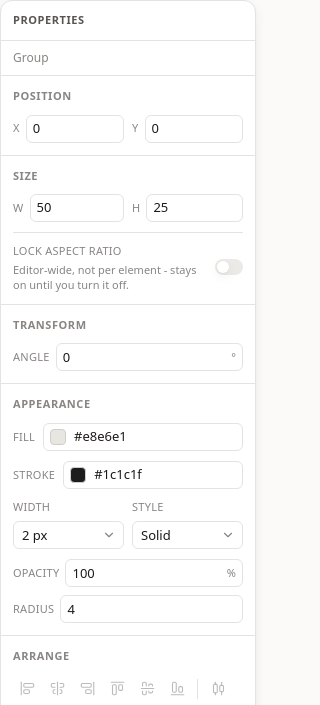
Test case: group selection › couples W to H for a group once the aspect lock is on
The image size is (320, 705).
Click the switch named "Lock aspect ratio" at point(229, 267), box [215,259,243,275]
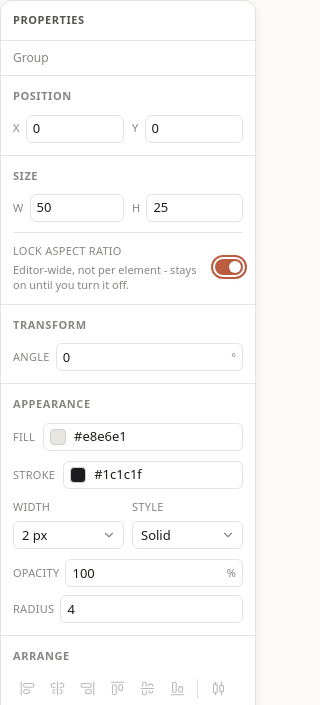
Replace the text in the number field labelled "W" with "100" at point(77, 208), box [30,198,123,218]
Then press Enter
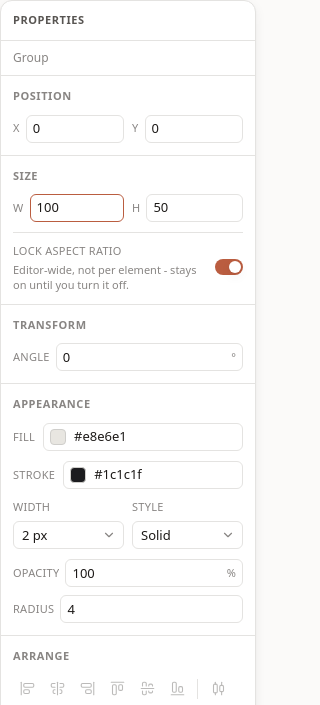
Expected: the number field labelled "H" holds "50", [147,198,242,218]
